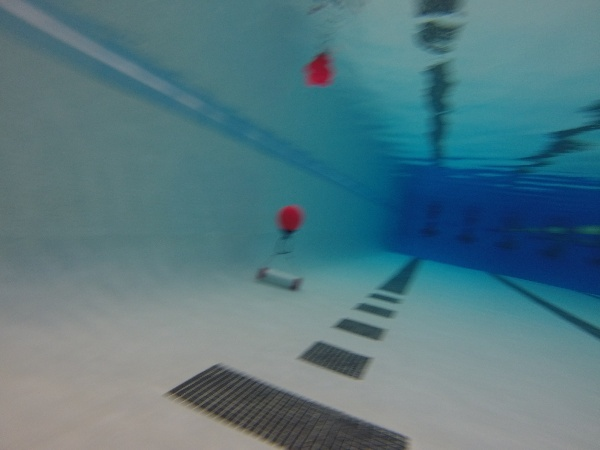buoy_red: (274, 202, 305, 240)
